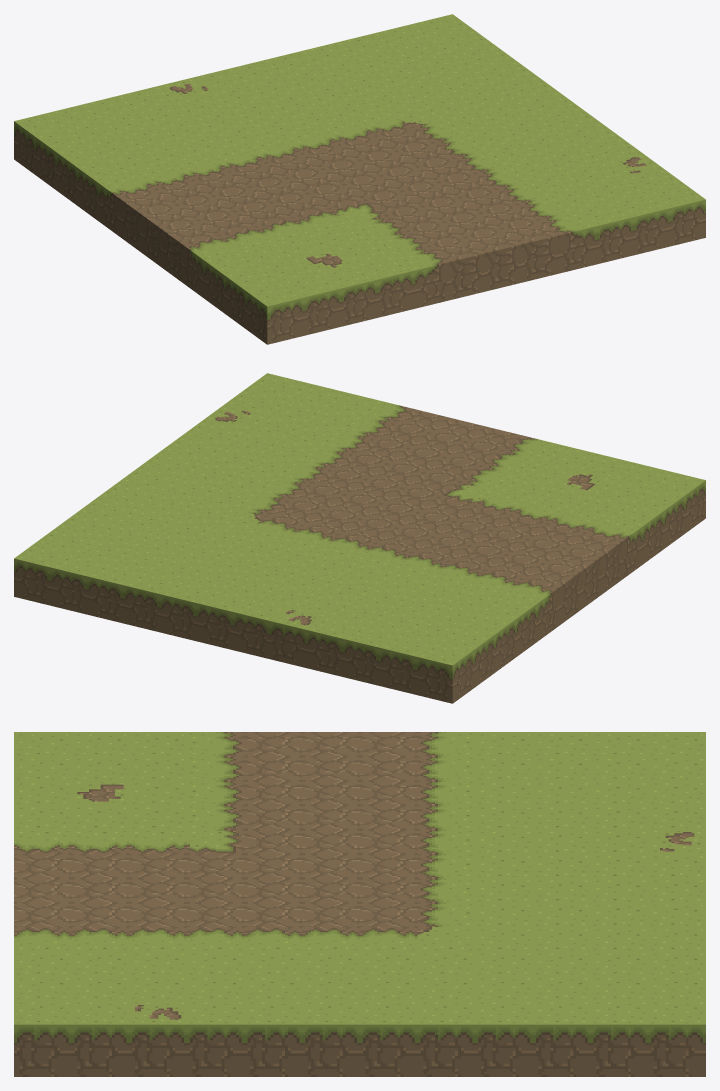
Rendered from map1.14.vox.obj.
3 views of the same model, one above another, from view 1: azimuth 30°, elevation 25°; view 2: azimuth 150°, elevation 25°; view 3: azimuth 270°, elevation 25° (orthographic). The views are drawn at different scales.
Bounding box in the file's own units: 24 × 2 × 24.
1 material, 1 textured.
